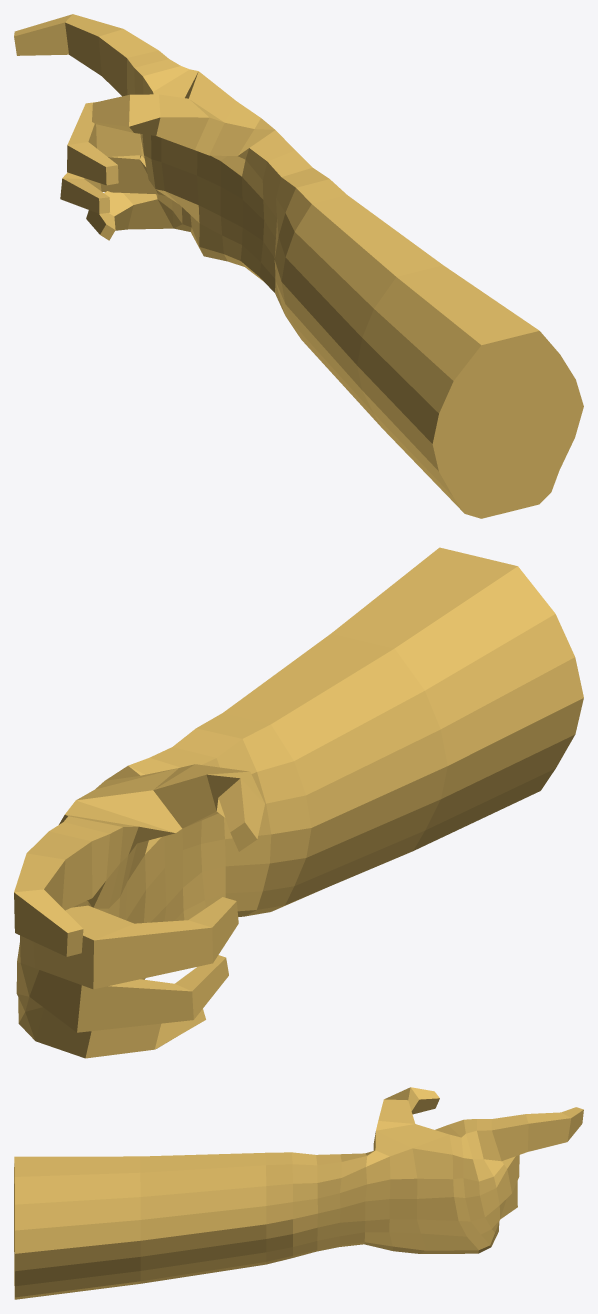
Rendered from mesh_handScale_01.fbx.
3 renders of one model, top to bottom at view 1: azimuth 30°, elevation 25°; view 2: azimuth 150°, elevation 25°; view 3: azimuth 270°, elevation 25°, orthographic. The views are drawn at different scales.
Parts seen in each view (by area): view 1: Cube.008; view 2: Cube.008; view 3: Cube.008.
Part boxes in pixels (bbox=[...]): Cube.008: bbox=[14, 14, 583, 518]; Cube.008: bbox=[14, 547, 583, 1058]; Cube.008: bbox=[14, 1087, 583, 1299].
Size of the model in its own units: 9.53 by 10.78 by 33.18.
